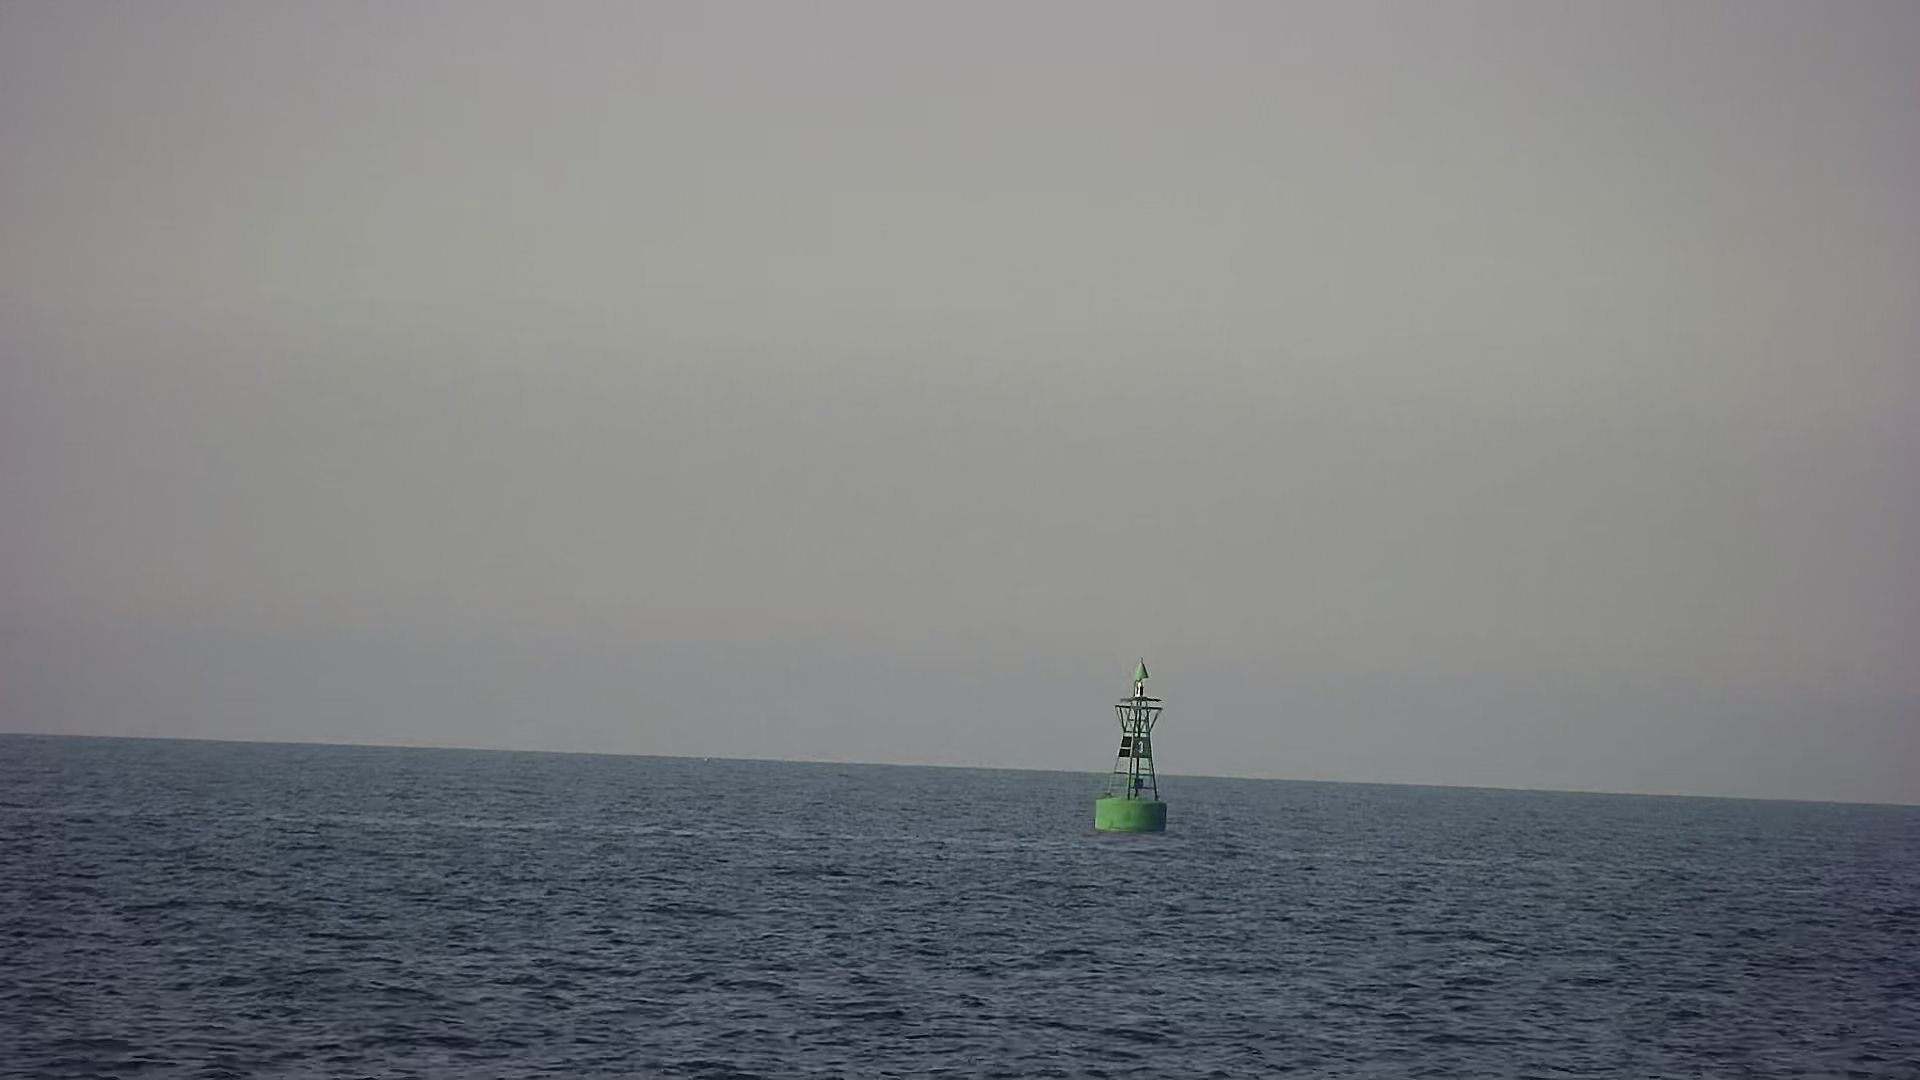buoy: (1089, 653, 1182, 843)
